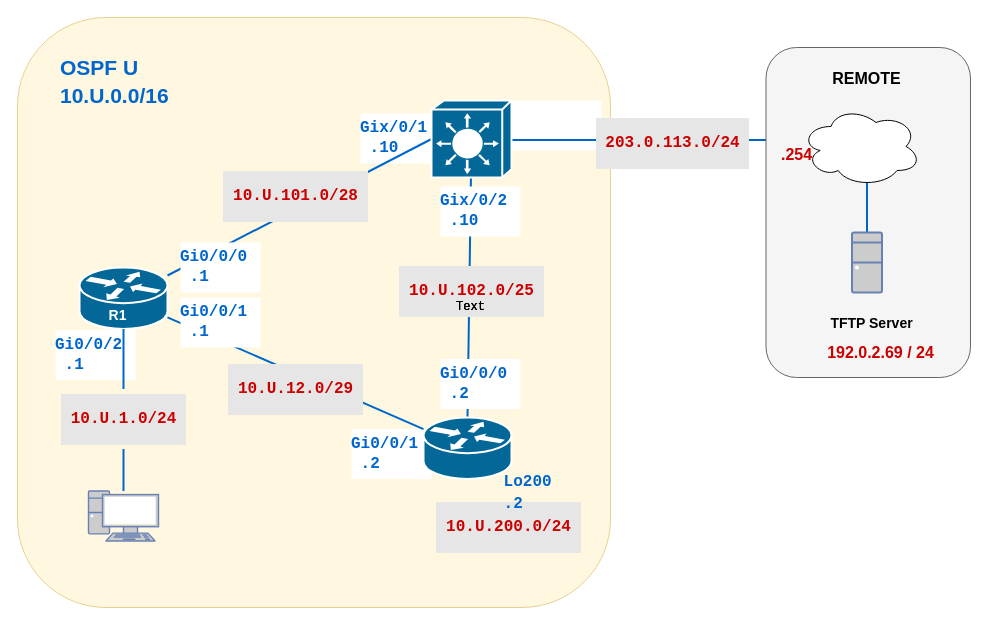
The diagram is 988 pixels wide and 625 high, and some of its shapes have lost their labels. The centre of each missing label's shape, as x and y in pixels:
"Gix/0/24 .U" belongs at point (556, 125).
"PC" belongs at point (123, 516).
"R2" belongs at point (467, 448).
"SA" belongs at point (471, 138).
